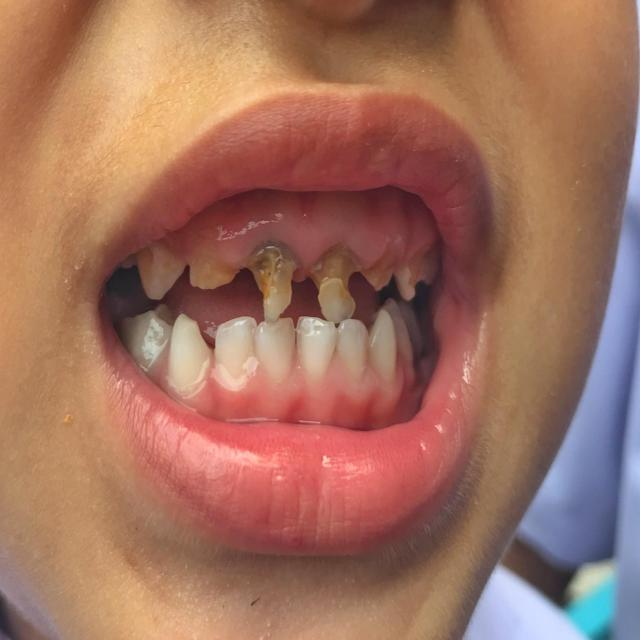Cavity: (308, 242, 362, 297), (244, 248, 282, 305), (408, 251, 428, 290)
Tooth: (244, 240, 303, 322), (308, 243, 362, 325), (118, 304, 176, 379), (168, 313, 212, 395), (215, 316, 258, 387), (136, 240, 186, 300), (254, 317, 296, 383), (297, 316, 336, 381), (393, 244, 431, 302), (369, 309, 397, 380), (337, 319, 369, 381), (190, 252, 241, 289)
